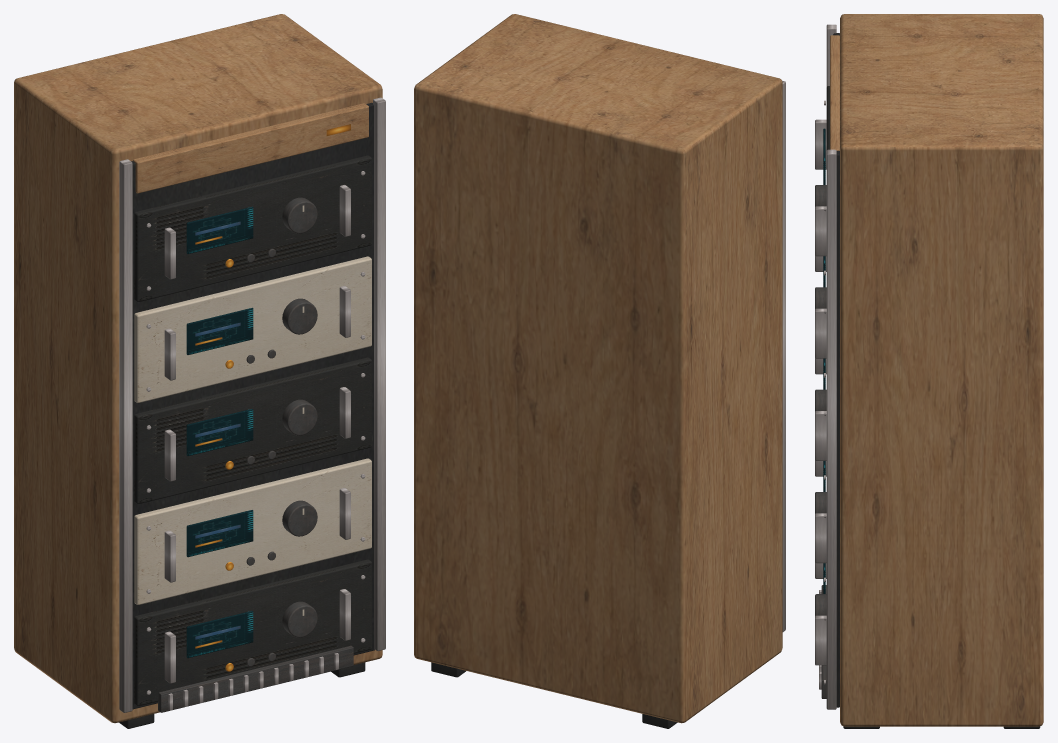
Rendered from SM_FacilityRooms_RadioRack.fbx.
The picture shows the model from 3 angles, left to right: view 1: azimuth 30°, elevation 25°; view 2: azimuth 150°, elevation 25°; view 3: azimuth 270°, elevation 25°; orthographic projection.
Parts seen in each view (by area): view 1: SM_FacilityRooms_RadioRack; view 2: SM_FacilityRooms_RadioRack; view 3: SM_FacilityRooms_RadioRack.
Boxes of the visible parts, x1,y1,x2,y2 form: SM_FacilityRooms_RadioRack: (14, 14, 385, 728); SM_FacilityRooms_RadioRack: (414, 14, 785, 728); SM_FacilityRooms_RadioRack: (815, 14, 1043, 728).
Size of what is drawn, in the model's own units: 90 by 65 by 185.
